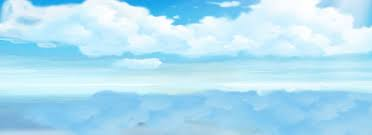sky: (2, 1, 372, 134)
